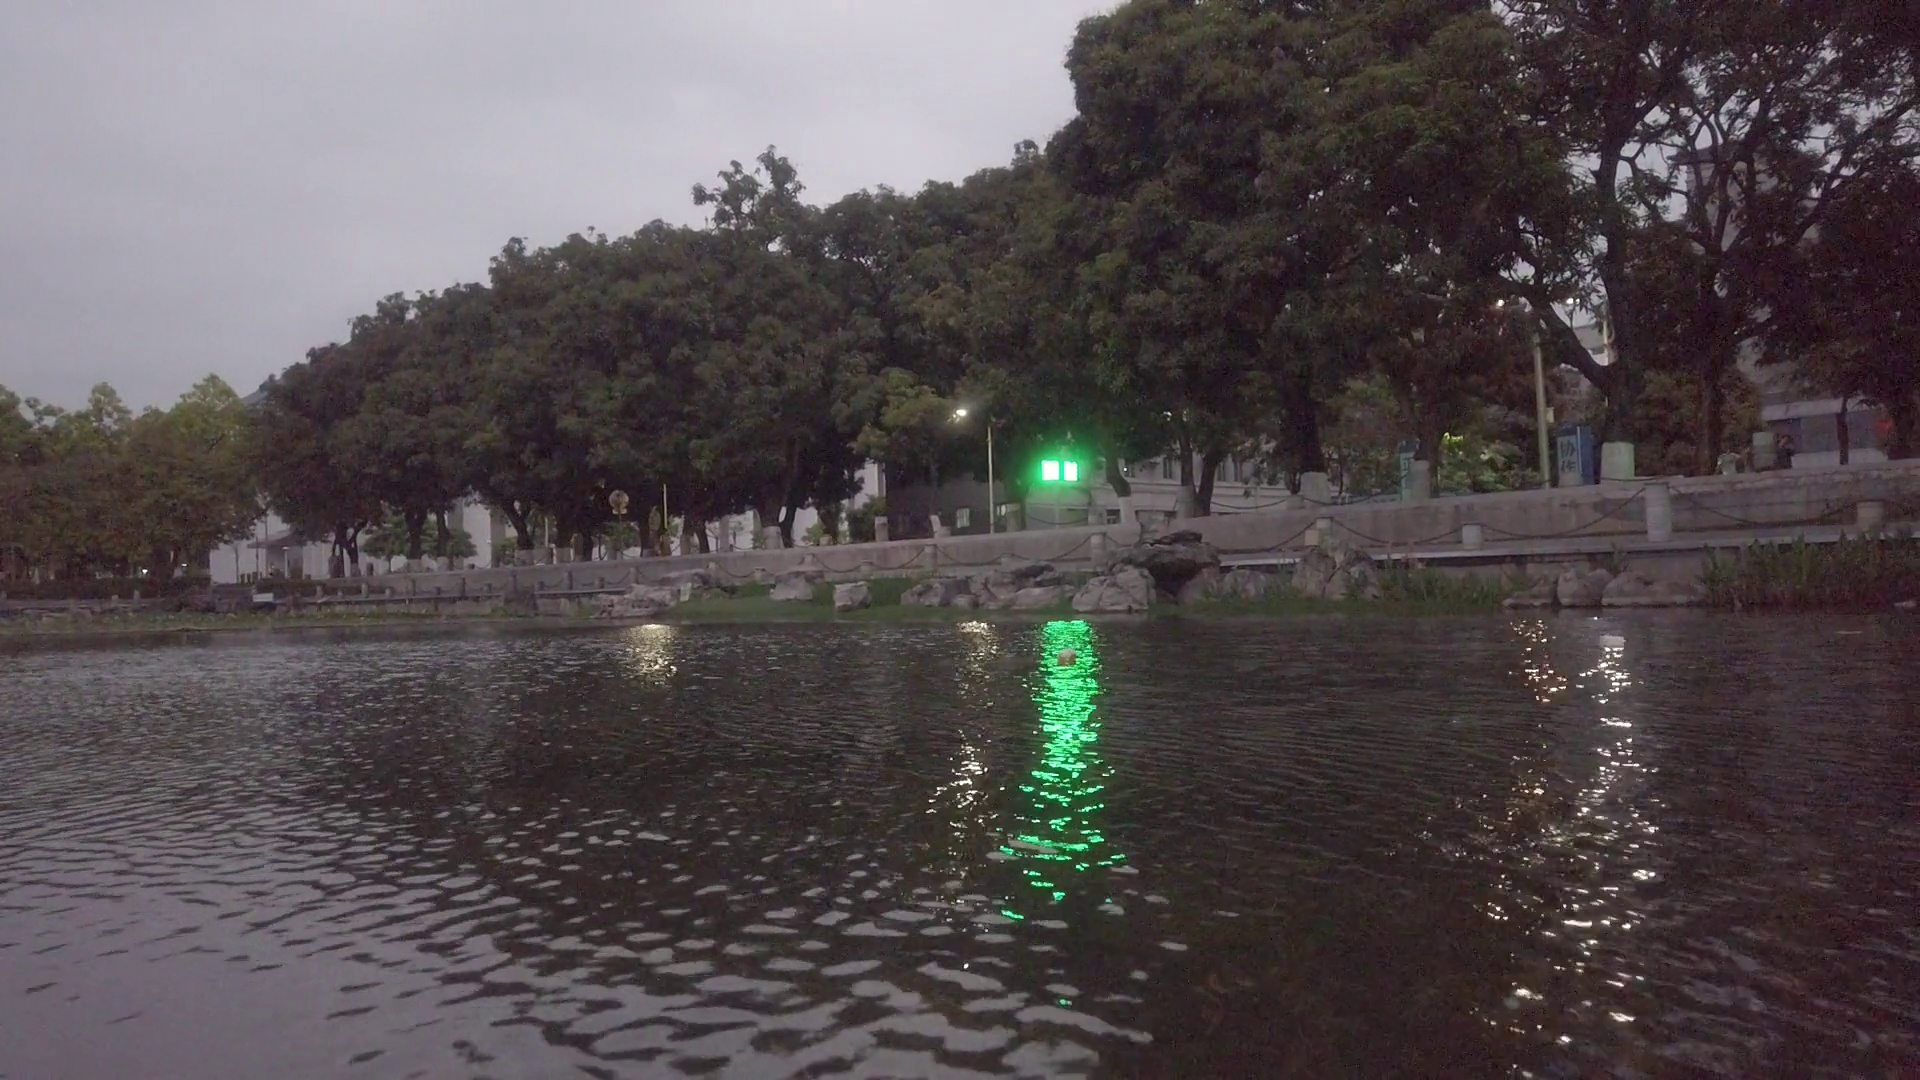bottle: (1058, 649, 1077, 665)
carton: (1600, 632, 1627, 647)
